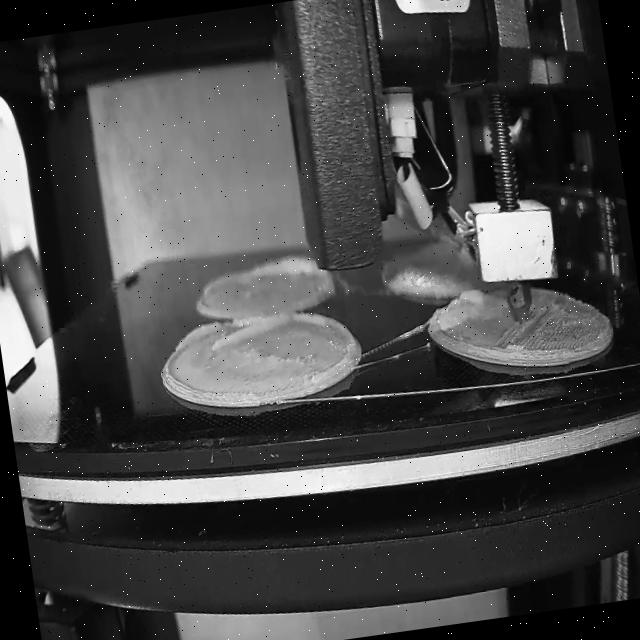over_extrusion: (170, 314, 291, 362), (295, 305, 360, 378), (256, 250, 334, 297), (456, 288, 503, 316)
